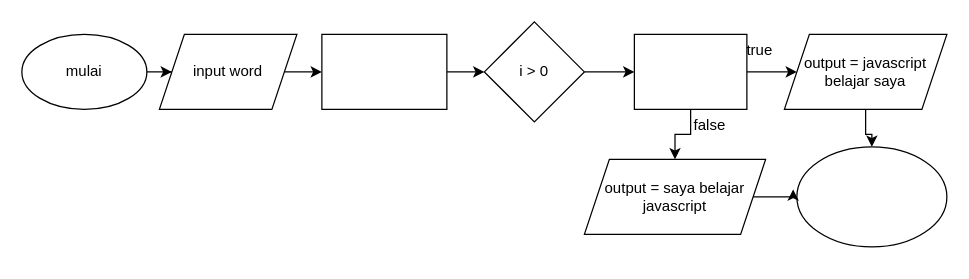
Some shapes in this 969 by 279 pixel diagram are drawn without their labels. The shapes that lost their labels are listed below. From the top down, each one's centre as x and y in pixels, then its label:
point (384, 71): menampung array
point (690, 71): ubah array menjadi string
point (871, 196): selesai
